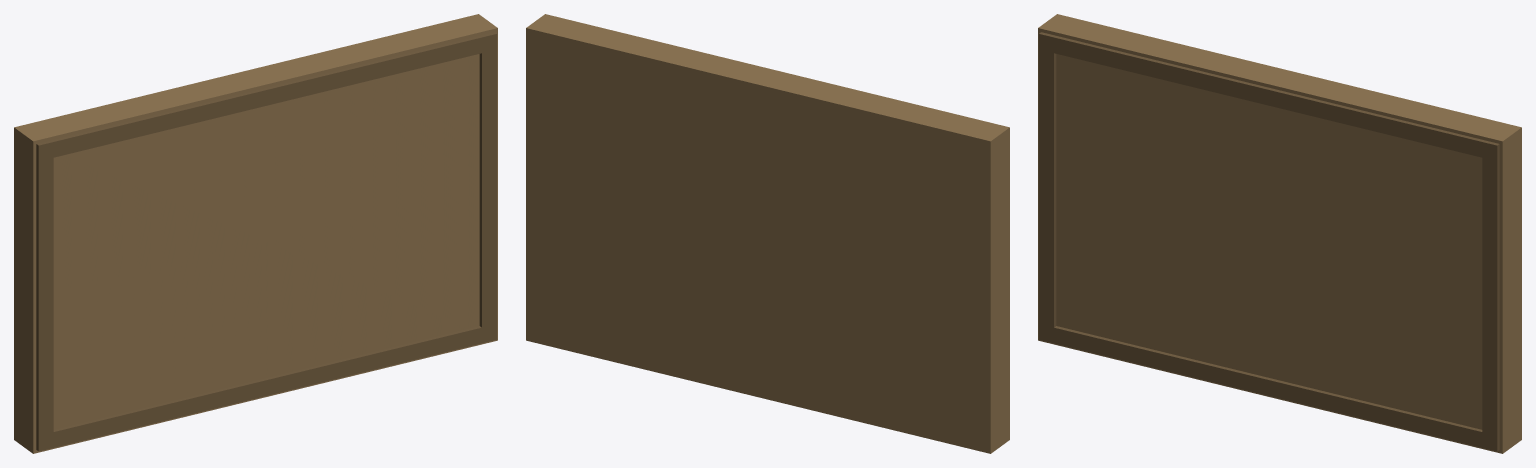
File: sign_dark_oak_wall.gltf
The picture shows the model from 3 angles, left to right: view 1: azimuth 30°, elevation 25°; view 2: azimuth 150°, elevation 25°; view 3: azimuth 330°, elevation 25°; orthographic projection.
Parts seen in each view (by area): view 1: sign_dark_oak_wall; view 2: sign_dark_oak_wall; view 3: sign_dark_oak_wall.
Boxes of the visible parts, x1,y1,x2,y2 form: sign_dark_oak_wall: (14, 14, 497, 453); sign_dark_oak_wall: (526, 14, 1009, 453); sign_dark_oak_wall: (1038, 14, 1521, 453).
Bounding box in the file's own units: 0.875 × 0.5625 × 0.07.
